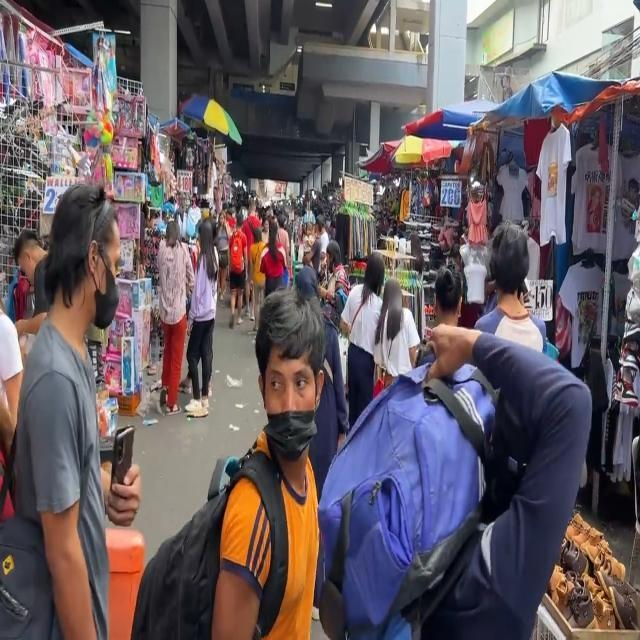hairnet: (265, 352, 315, 459)
